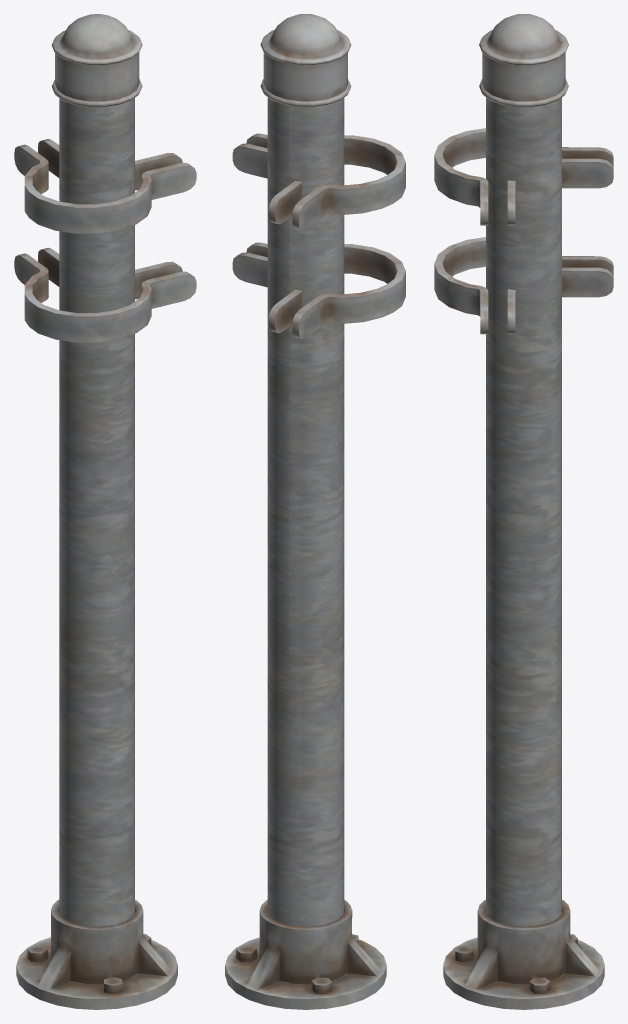
The model's file is reference-bollard.glb.
3 views of the same model, side by side, from view 1: azimuth 30°, elevation 25°; view 2: azimuth 150°, elevation 25°; view 3: azimuth 270°, elevation 25° (orthographic).
Parts seen in each view (by area): view 1: reference_bollard; view 2: reference_bollard; view 3: reference_bollard.
Part boxes in pixels (<box>): reference_bollard: <box>14,14,196,1009</box>; reference_bollard: <box>225,14,405,1009</box>; reference_bollard: <box>434,14,613,1009</box>.
Size of the model in its own units: 0.1492 by 0.88 by 0.1493.
2 materials, 2 textured.
